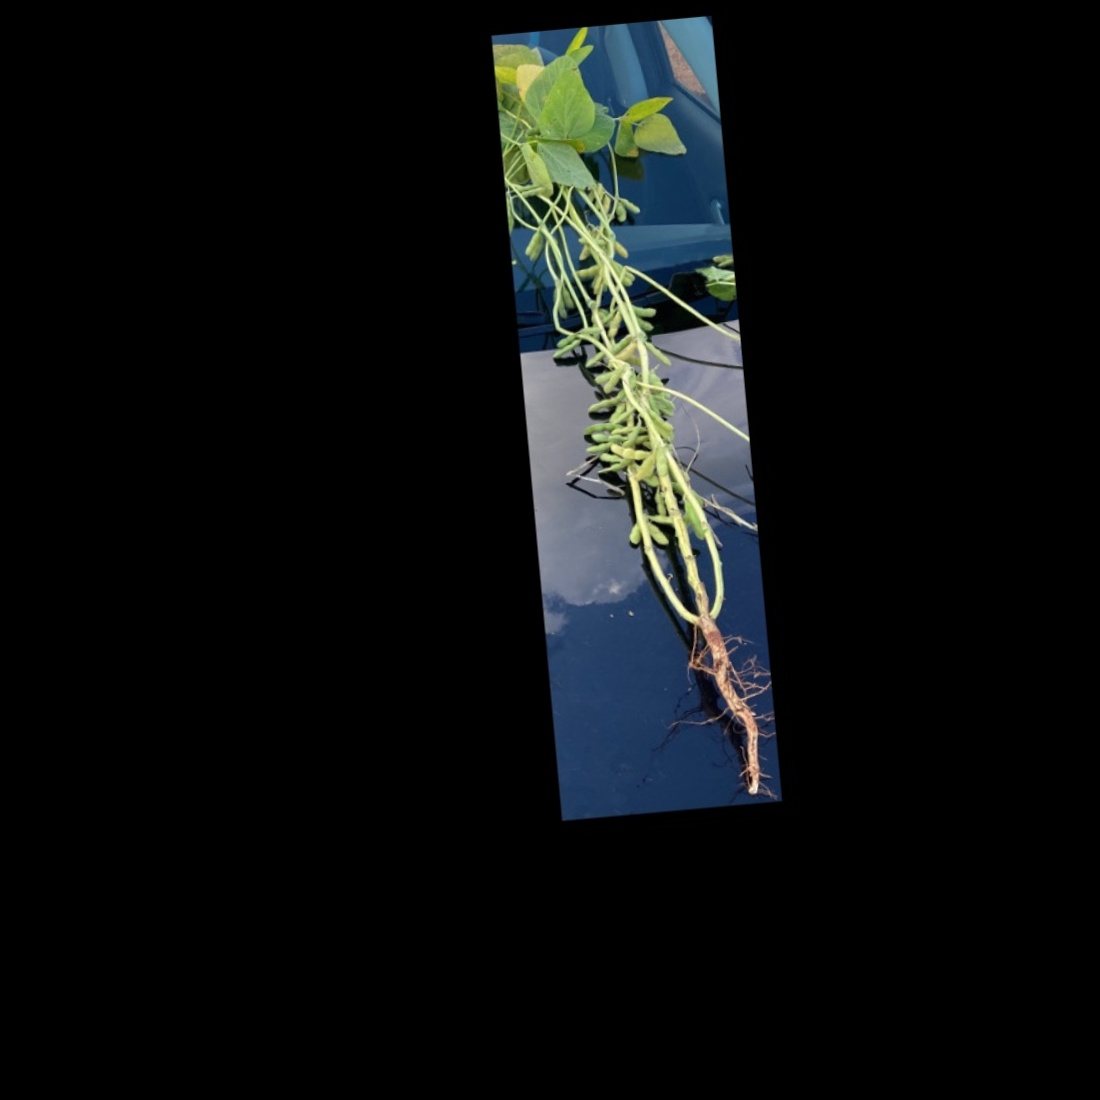pod: (609, 437, 654, 463), (645, 337, 676, 370), (642, 518, 672, 550), (520, 225, 545, 260), (584, 395, 627, 415), (596, 365, 624, 396), (603, 305, 627, 341), (614, 190, 641, 217), (612, 196, 632, 225), (570, 263, 601, 279)
soy: (497, 23, 778, 801)
